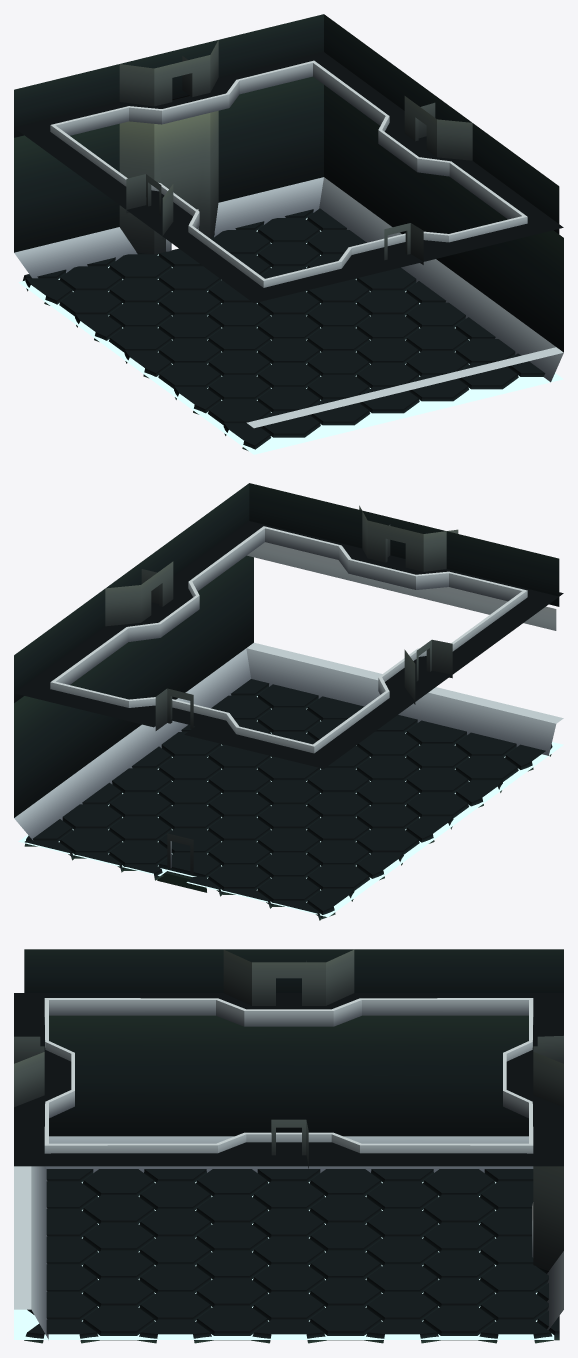
Rendered from tower-arena.glb.
3 views of the same model, one above another, from view 1: azimuth 30°, elevation 25°; view 2: azimuth 150°, elevation 25°; view 3: azimuth 270°, elevation 25° (orthographic). The views are drawn at different scales.
Parts seen in each view (by area): view 1: hex_floor, arena_walls, balcony, balcony_wall, arena_player_entrance, arena_floor; view 2: hex_floor, arena_walls, balcony, balcony_wall, arena_floor; view 3: hex_floor, arena_walls, balcony, balcony_wall, arena_player_entrance, arena_floor.
Part boxes in pixels (x1,y1,x2,y2): hex_floor: (23, 208, 545, 450); arena_walls: (14, 76, 563, 428); balcony: (14, 52, 563, 303); balcony_wall: (14, 14, 559, 264); arena_player_entrance: (119, 110, 218, 254); arena_floor: (18, 218, 563, 454); hex_floor: (24, 679, 552, 920); arena_walls: (14, 542, 563, 840); balcony: (14, 521, 563, 768); balcony_wall: (14, 483, 559, 730); arena_floor: (18, 696, 563, 917); hex_floor: (24, 1169, 559, 1343); arena_walls: (14, 1015, 563, 1339); balcony: (14, 993, 563, 1166); balcony_wall: (14, 949, 563, 1169); arena_player_entrance: (532, 1166, 563, 1270); arena_floor: (14, 1181, 554, 1339).
Size of what is drawn, in the model's own units: 47 by 29.47 by 63.
2 materials, 1 textured.
